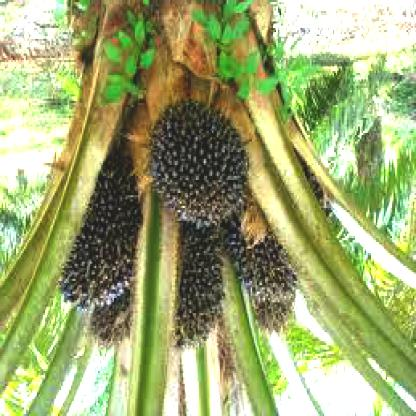palm-oil: (58, 133, 143, 313), (145, 108, 252, 228), (171, 232, 226, 350), (241, 242, 297, 335), (92, 300, 132, 356)
